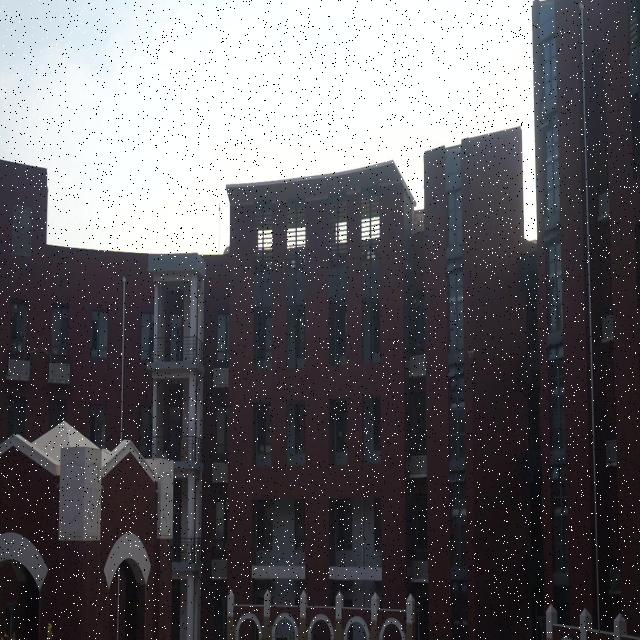UAV: (467, 350, 475, 358)
